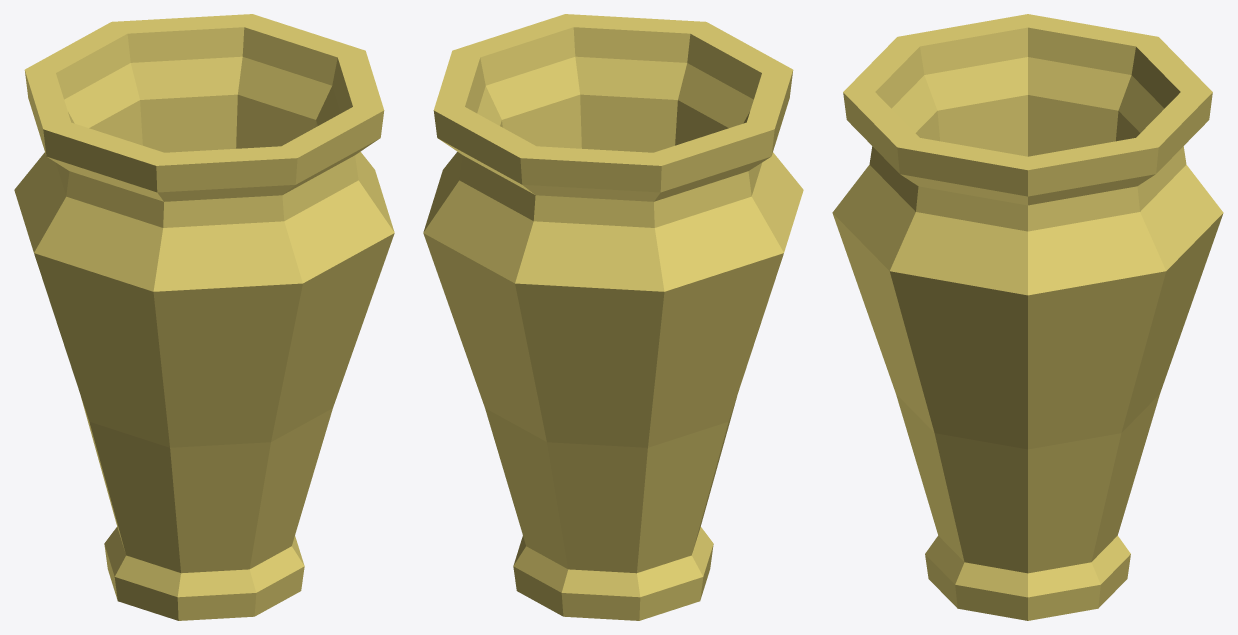
File: prop_vase.glb
The picture shows the model from 3 angles, left to right: view 1: azimuth 30°, elevation 25°; view 2: azimuth 150°, elevation 25°; view 3: azimuth 270°, elevation 25°; orthographic projection.
Visible parts, largest first — view 1: Vase_Cylinder.004; view 2: Vase_Cylinder.004; view 3: Vase_Cylinder.004.
Part boxes in pixels (bbox=[...]): Vase_Cylinder.004: bbox=[14, 14, 394, 620]; Vase_Cylinder.004: bbox=[423, 14, 803, 620]; Vase_Cylinder.004: bbox=[832, 14, 1223, 620].
Size of the model in its own units: 0.2286 by 0.3138 by 0.2286.
